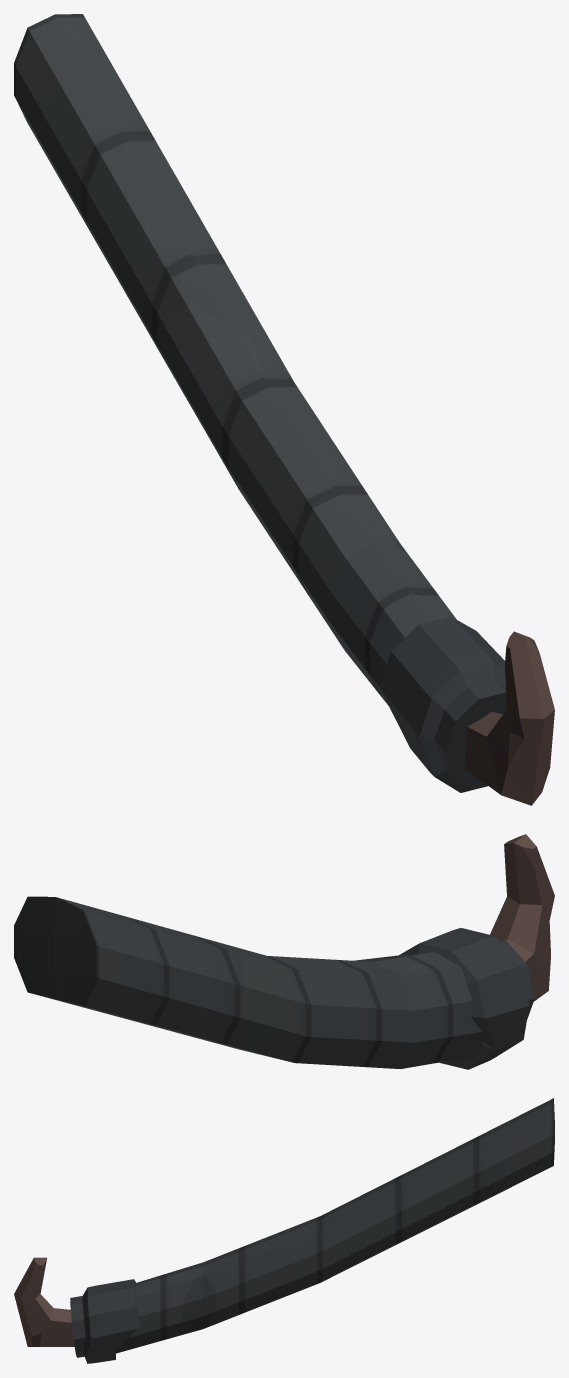
File: SM_Bld_Roof_Edge_Trim_End_02.fbx
3 renders of one model, top to bottom at view 1: azimuth 30°, elevation 25°; view 2: azimuth 150°, elevation 25°; view 3: azimuth 270°, elevation 25°, orthographic. The views are drawn at different scales.
Parts seen in each view (by area): view 1: SM_Bld_Roof_Edge_Trim_End_02; view 2: SM_Bld_Roof_Edge_Trim_End_02; view 3: SM_Bld_Roof_Edge_Trim_End_02.
Boxes of the visible parts, box(x1,y1,x2,y2) form: SM_Bld_Roof_Edge_Trim_End_02: box(14, 14, 554, 805); SM_Bld_Roof_Edge_Trim_End_02: box(14, 834, 554, 1069); SM_Bld_Roof_Edge_Trim_End_02: box(14, 1098, 554, 1363).
Bounding box in the file's own units: 37.27 × 152 × 289.
